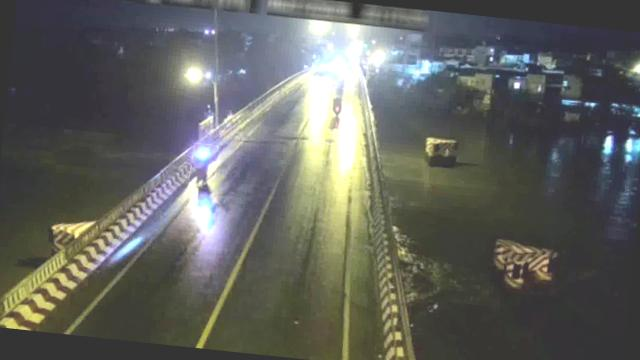Bike: (188, 144, 219, 190), (332, 88, 346, 118)
